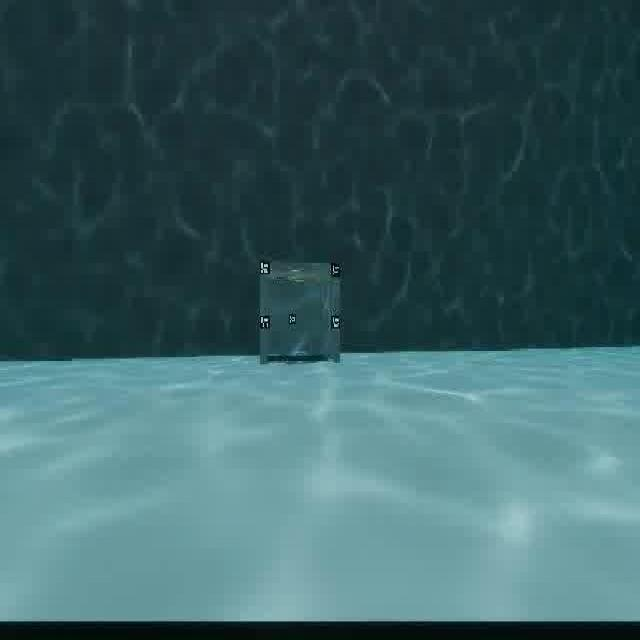Docking Station: (254, 246, 347, 372)
